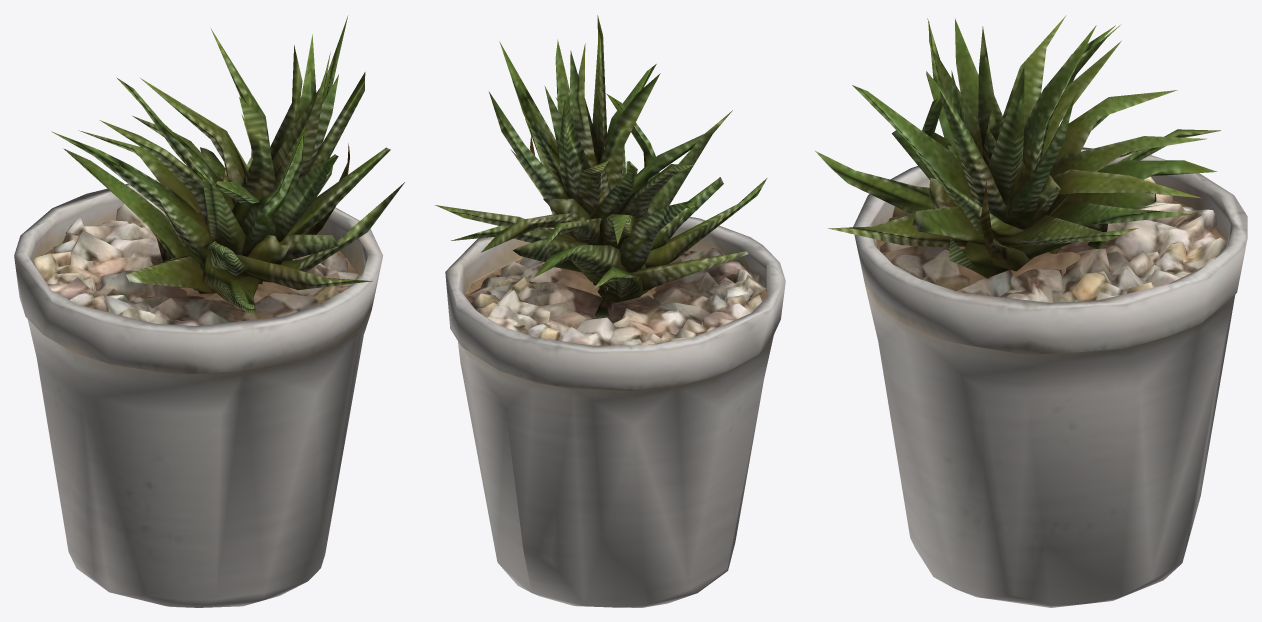
The model's file is pflanzkuebel.glb.
The picture shows the model from 3 angles, left to right: view 1: azimuth 30°, elevation 25°; view 2: azimuth 150°, elevation 25°; view 3: azimuth 270°, elevation 25°; orthographic projection. The views are drawn at different scales.
Visible parts, largest first — view 1: potted_plant_04_ground; view 2: potted_plant_04_ground; view 3: potted_plant_04_ground.
Boxes of the visible parts, x1=… form: potted_plant_04_ground: x1=14, y1=15, x2=404, y2=607; potted_plant_04_ground: x1=435, y1=15, x2=785, y2=607; potted_plant_04_ground: x1=814, y1=15, x2=1247, y2=607.
Bounding box in the file's own units: 0.1669 × 0.2672 × 0.1825.
1 material, 1 textured.
